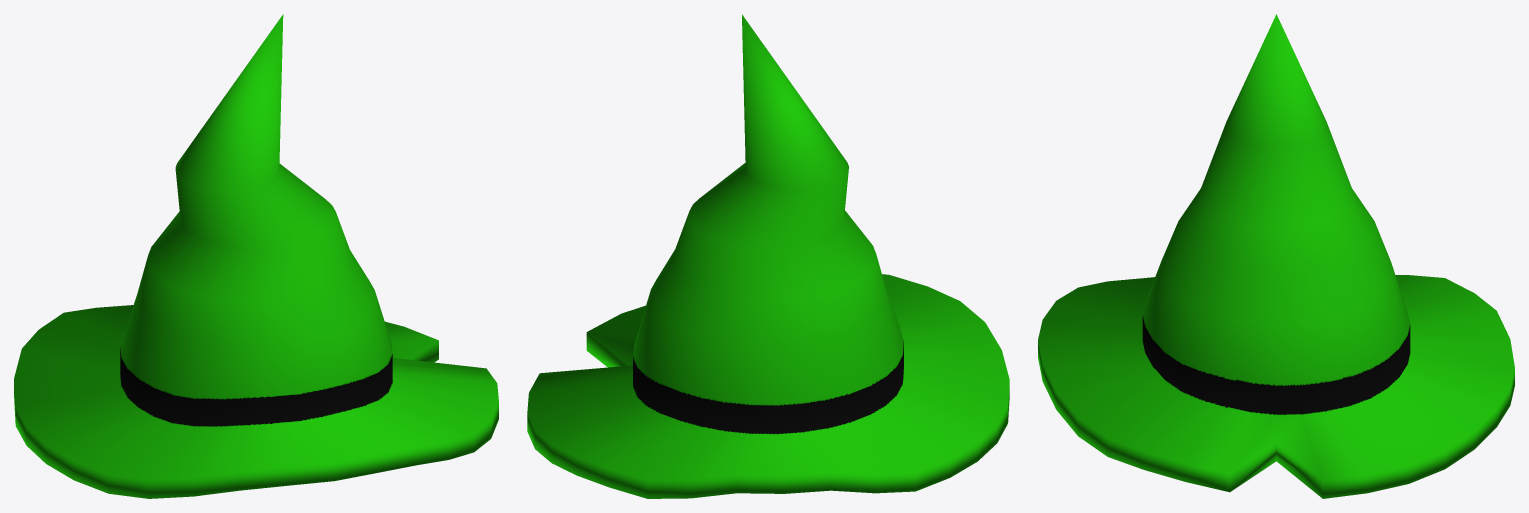
Rendered from WizardHat_Green.fbx.
The picture shows the model from 3 angles, left to right: view 1: azimuth 30°, elevation 25°; view 2: azimuth 150°, elevation 25°; view 3: azimuth 270°, elevation 25°; orthographic projection.
Parts seen in each view (by area): view 1: Cone.002; view 2: Cone.002; view 3: Cone.002.
Part boxes in pixels (x1,y1,x2,y2): Cone.002: (14,14,498,498); Cone.002: (527,14,1009,498); Cone.002: (1038,14,1514,498).
Bounding box in the file's own units: 924 × 862 × 933.
